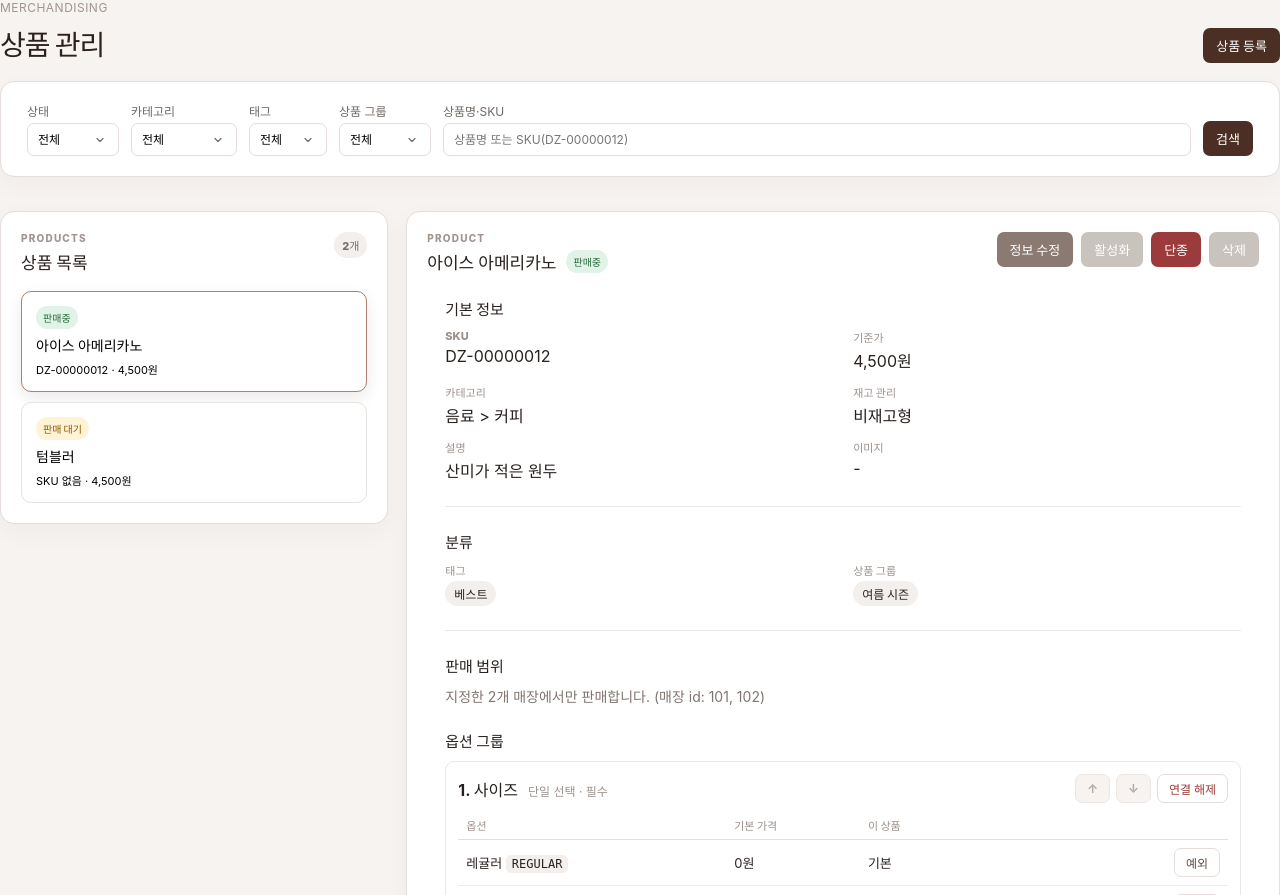
Test: ProductsPage 쓰기 › 정보 수정은 모달에서 현재 값(태그 이름 포함)을 채워 연다
Step 1. Click the button "정보 수정" → (1035, 250), box [997,232,1073,267]
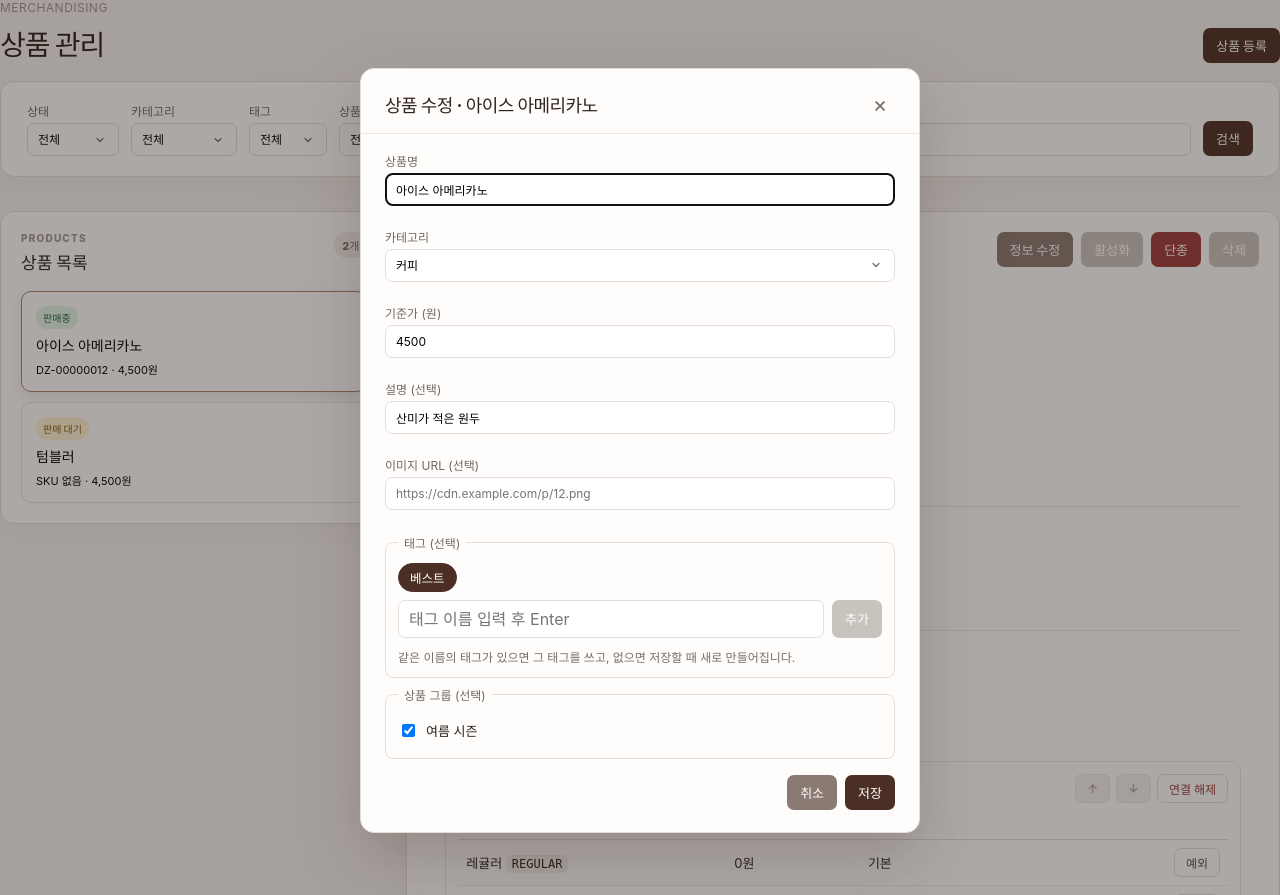
Check: the field labelled "상품명" holds "아이스 아메리카노", box [385,172,895,206]
